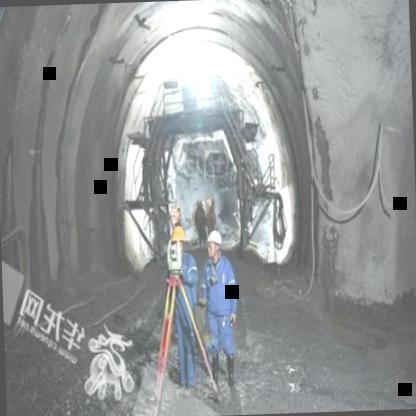helmet: (168, 223, 187, 258), (205, 228, 224, 262)
